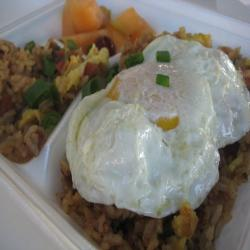omelette: (74, 39, 246, 213)
